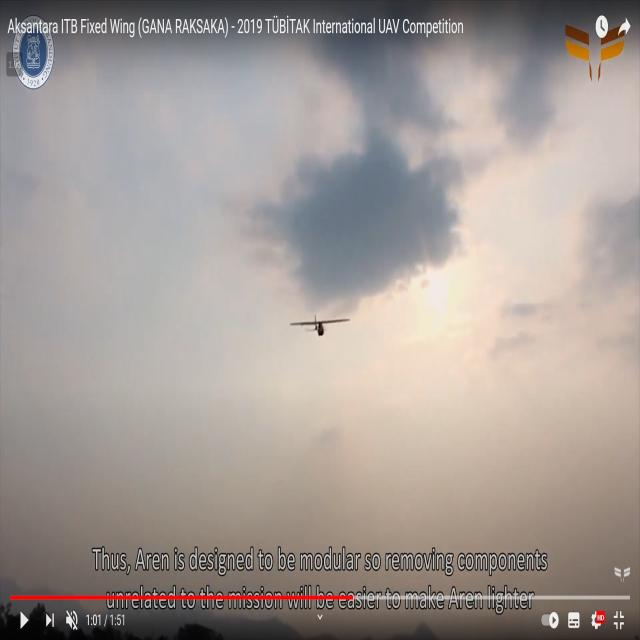iha: (290, 314, 350, 338)
